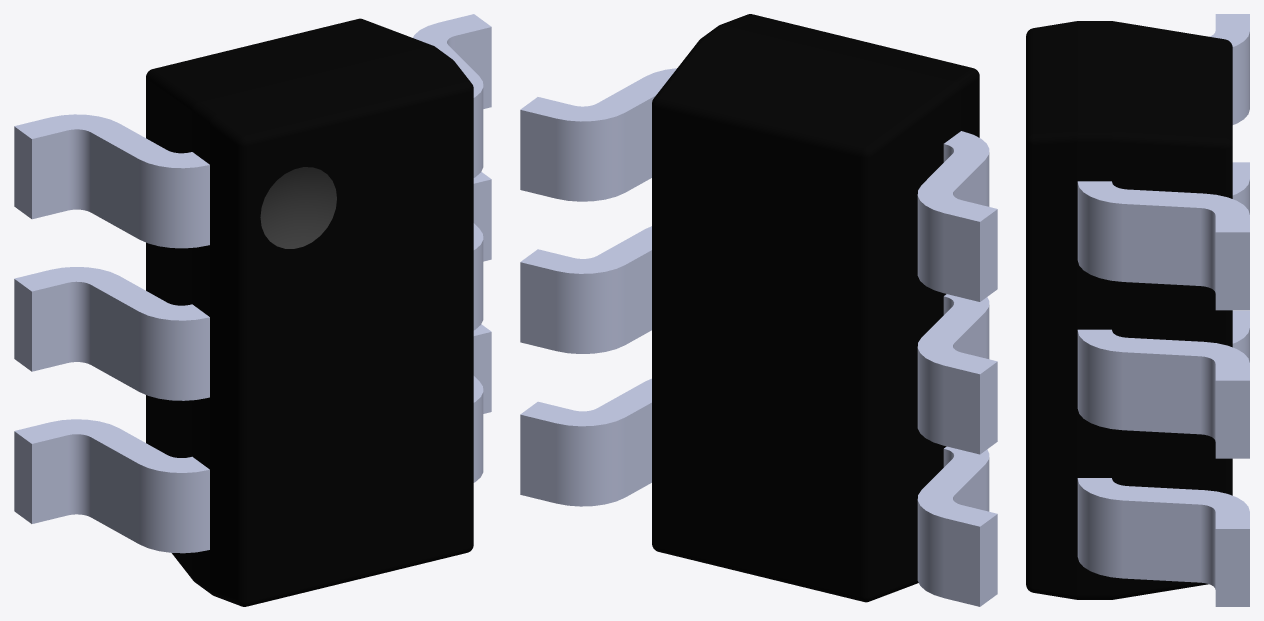
Rendered from User Library-SOT23-6.glb.
3 views of the same model, side by side, from view 1: azimuth 30°, elevation 25°; view 2: azimuth 150°, elevation 25°; view 3: azimuth 270°, elevation 25° (orthographic). The views are drawn at different scales.
Parts seen in each view (by area): view 1: User Library-SOT23-6; view 2: User Library-SOT23-6; view 3: User Library-SOT23-6.
Boxes of the visible parts, bbox=[...] form: User Library-SOT23-6: bbox=[14, 14, 491, 606]; User Library-SOT23-6: bbox=[520, 14, 997, 606]; User Library-SOT23-6: bbox=[1026, 14, 1249, 606].
Size of the model in its own units: 0.003 by 0.003 by 0.0013.
